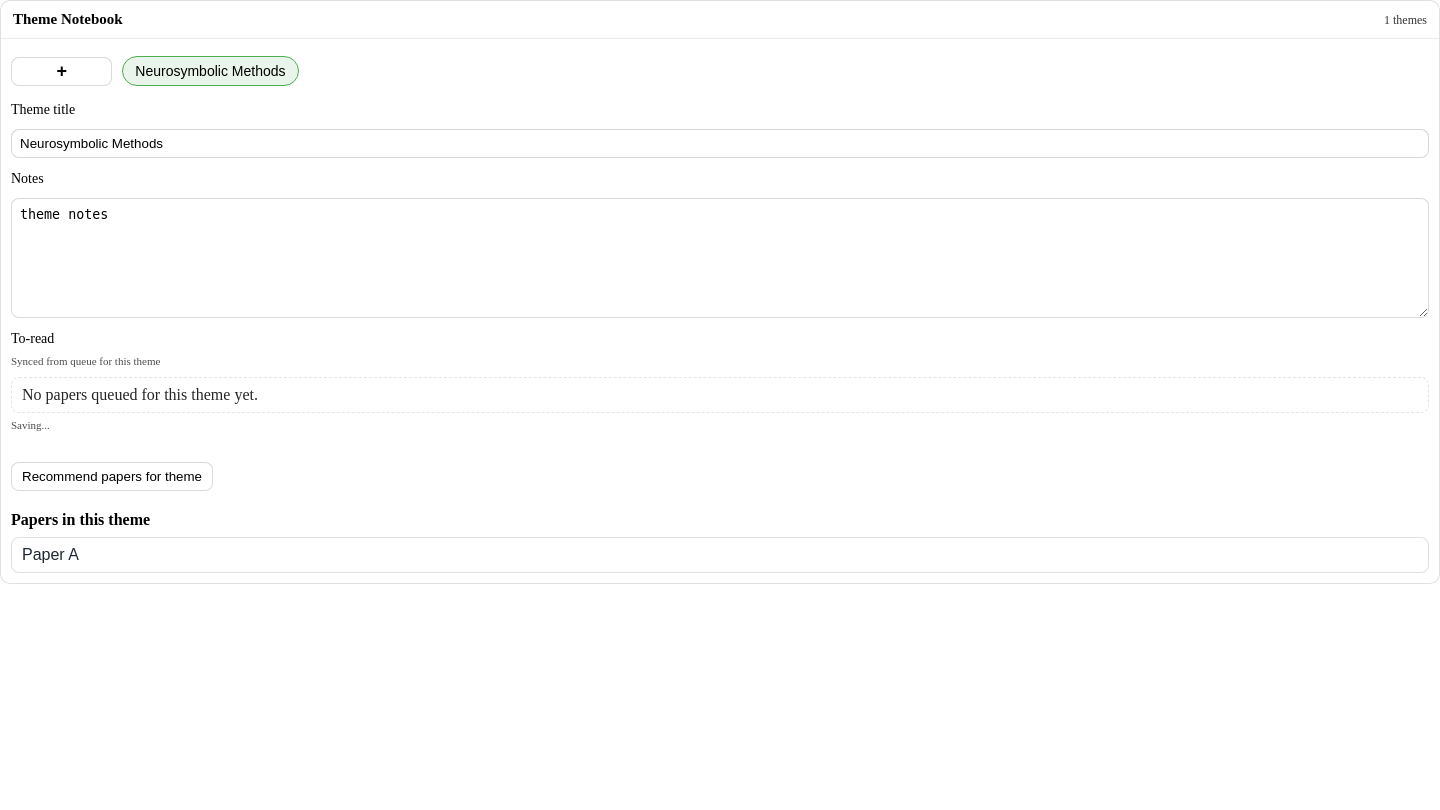
Test: ThemeNotebook recommendations › shows empty-state message when no recommendations are returned
Click the button "Recommend papers for theme".
click(112, 476)  # box [11,462,213,491]
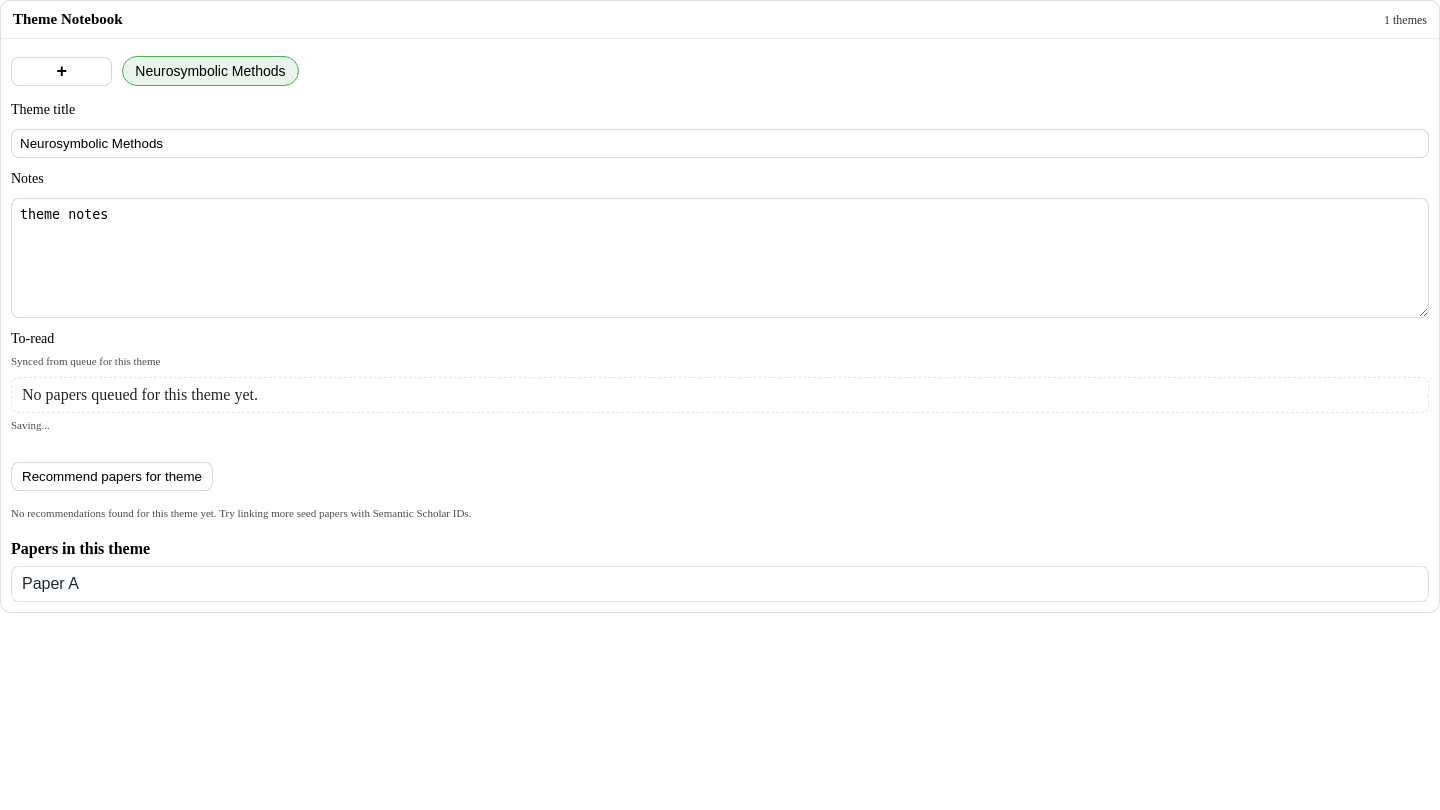
Check: the text "No recommendations found for this theme yet" is shown, box [11,507,471,519]
